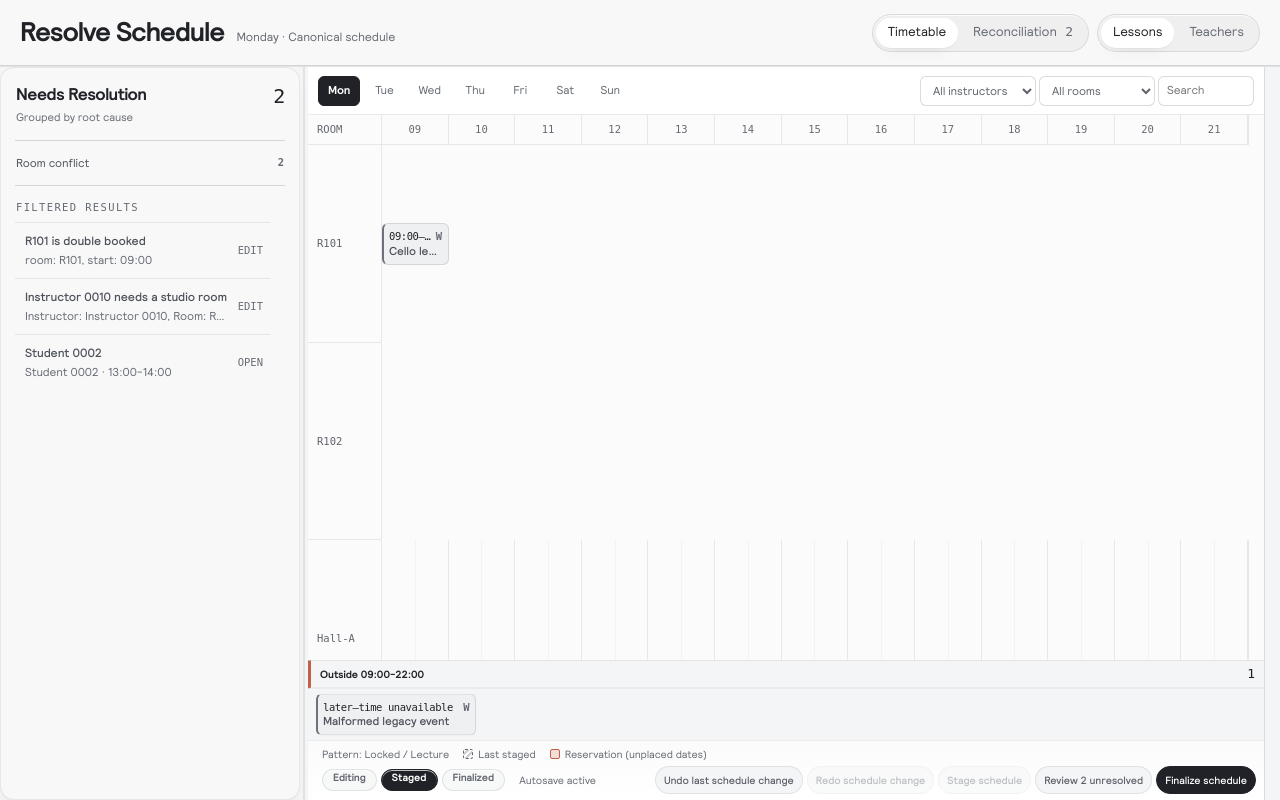
Scenario: ResolvePage › keeps the schedule issue queue and editor visible with canonical metrics and state
Expected: the element "Needs Resolution" is shown, x1=0 y1=67 x2=300 y2=799
Expected: the element "Selected assignment" is not shown
Click the button "09:00–10:00 W Cello lesson": (415, 244) x1=382 y1=223 x2=449 y2=265
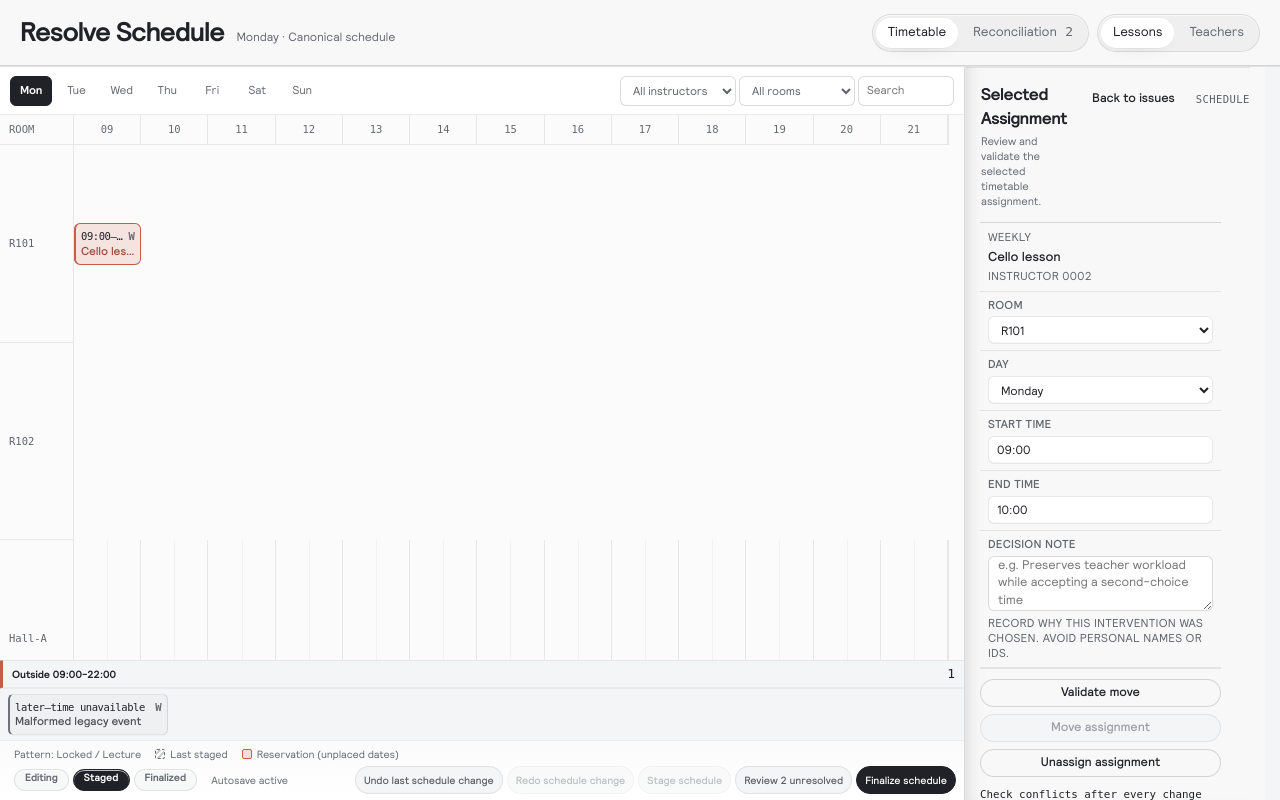
Expected: the element named "Schedule authority" is shown, x1=14 y1=769 x2=197 y2=791
Expected: the element "Selected Assignment" is shown, x1=966 y1=67 x2=1250 y2=799
